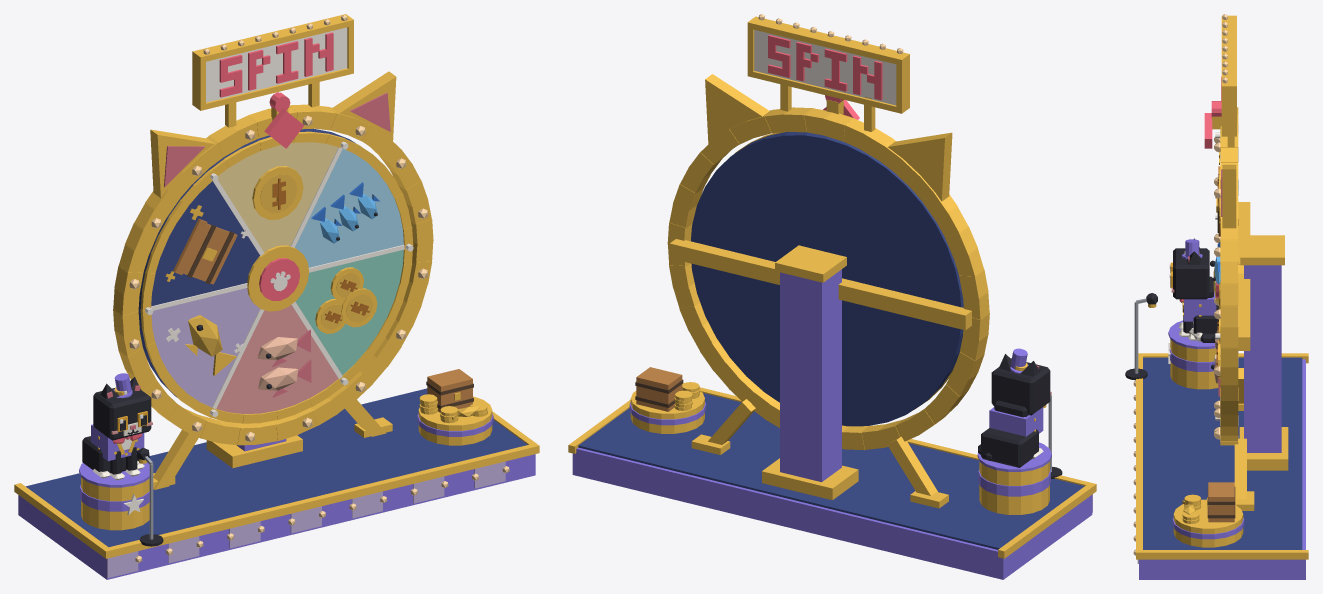
Rendered from CatCafe_Street_SpinWheel.glb.
3 renders of one model, left to right at view 1: azimuth 30°, elevation 25°; view 2: azimuth 150°, elevation 25°; view 3: azimuth 270°, elevation 25°, orthographic. The views are drawn at different scales.
Visible parts, largest first — view 1: CatCafe_Street_SpinWheel, CatCafe_Street_SpinWheel_Wheel, CatCafe_Street_SpinWheel_Cat_Head, CatCafe_Street_SpinWheel_RimLight, CatCafe_Street_SpinWheel_Cat_Outfit, CatCafe_Street_SpinWheel_Bulbs, CatCafe_Street_SpinWheel_Pointer, CatCafe_Street_SpinWheel_Cat_Body; view 2: CatCafe_Street_SpinWheel, CatCafe_Street_SpinWheel_Wheel, CatCafe_Street_SpinWheel_Cat_Body, CatCafe_Street_SpinWheel_Cat_Head, CatCafe_Street_SpinWheel_Cat_Outfit; view 3: CatCafe_Street_SpinWheel, CatCafe_Street_SpinWheel_Cat_Head, CatCafe_Street_SpinWheel_Wheel, CatCafe_Street_SpinWheel_Cat_Outfit, CatCafe_Street_SpinWheel_RimLight, CatCafe_Street_SpinWheel_Cat_Body, CatCafe_Street_SpinWheel_Bulbs, CatCafe_Street_SpinWheel_Pointer, CatCafe_Street_SpinWheel_Cat_Prop.
Part boxes in pixels (x1,y1,x2,y2): CatCafe_Street_SpinWheel: [14, 14, 539, 579]; CatCafe_Street_SpinWheel_Wheel: [138, 128, 413, 423]; CatCafe_Street_SpinWheel_Cat_Head: [93, 388, 152, 440]; CatCafe_Street_SpinWheel_RimLight: [129, 115, 428, 442]; CatCafe_Street_SpinWheel_Cat_Outfit: [91, 424, 144, 461]; CatCafe_Street_SpinWheel_Bulbs: [135, 15, 509, 562]; CatCafe_Street_SpinWheel_Pointer: [264, 108, 304, 148]; CatCafe_Street_SpinWheel_Cat_Body: [82, 436, 144, 478]; CatCafe_Street_SpinWheel: [568, 16, 1096, 579]; CatCafe_Street_SpinWheel_Wheel: [691, 131, 963, 426]; CatCafe_Street_SpinWheel_Cat_Body: [981, 400, 1043, 467]; CatCafe_Street_SpinWheel_Cat_Head: [991, 358, 1051, 415]; CatCafe_Street_SpinWheel_Cat_Outfit: [989, 407, 1043, 436]; CatCafe_Street_SpinWheel: [1125, 15, 1308, 579]; CatCafe_Street_SpinWheel_Cat_Head: [1170, 248, 1209, 299]; CatCafe_Street_SpinWheel_Wheel: [1210, 132, 1220, 420]; CatCafe_Street_SpinWheel_Cat_Outfit: [1179, 291, 1216, 321]; CatCafe_Street_SpinWheel_RimLight: [1214, 137, 1220, 439]; CatCafe_Street_SpinWheel_Cat_Body: [1188, 276, 1218, 340]; CatCafe_Street_SpinWheel_Bulbs: [1133, 14, 1227, 555]; CatCafe_Street_SpinWheel_Pointer: [1204, 113, 1212, 148]; CatCafe_Street_SpinWheel_Cat_Prop: [1182, 239, 1202, 259].
Size of the model in its own units: 13.56 by 13.82 by 5.27.
1 material, 1 textured.
